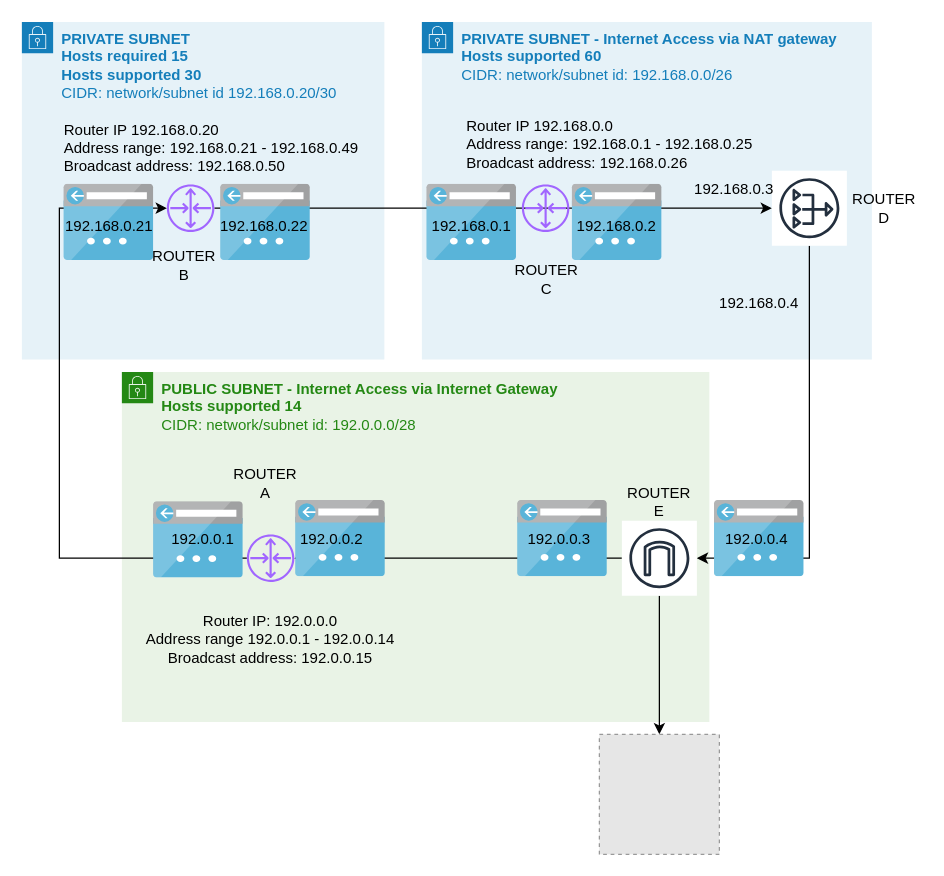
Image size: 944x876. Some labels were removed from this diagram. Grey dashed boxes stand in for pictures. The shapes that lost their labels are listed below. From the top down, each one's centre as x and y in pixels, then its label:
At (809,207): "NAT gateway".
At (659,557): "Internet gateway".
